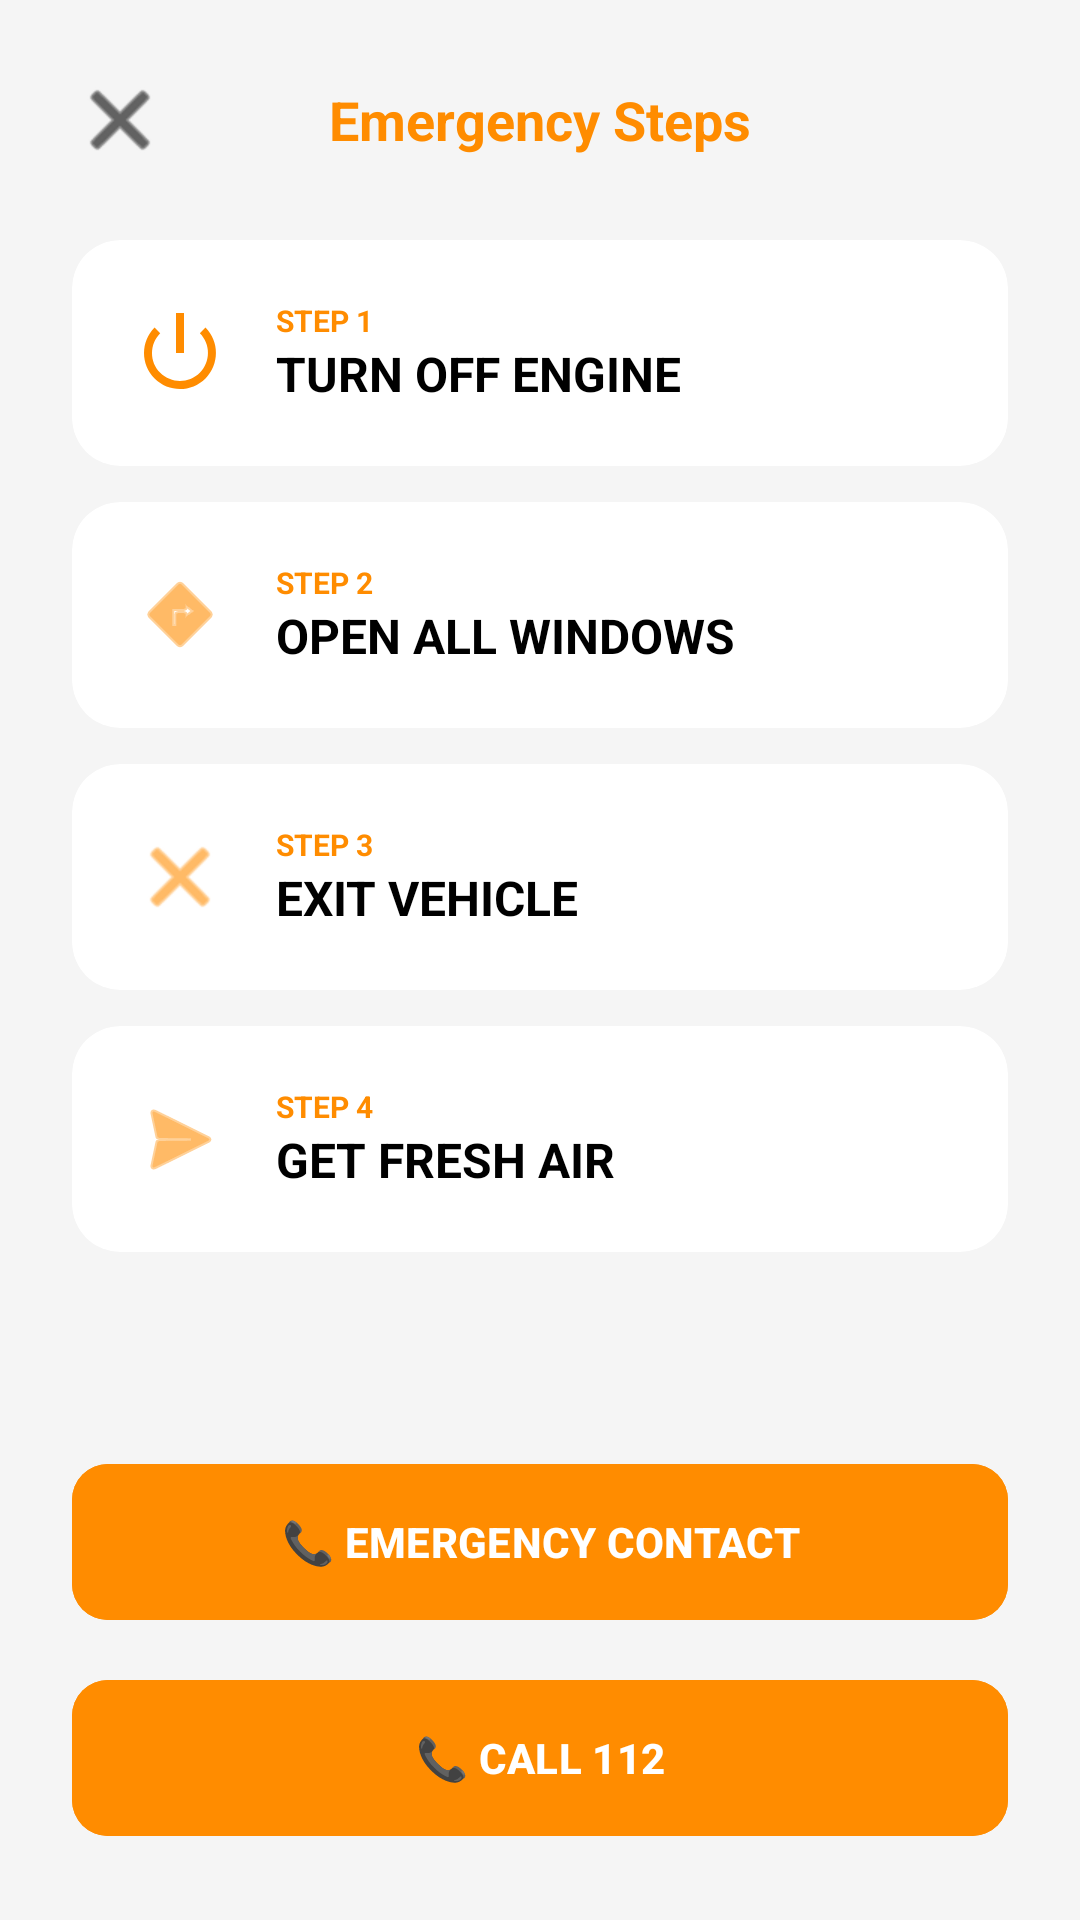

Screen size 1080*1920. Icon name, then its center in pixels as (x=x, y=y):
close clear cancel: (x=120, y=120), (x=180, y=877)
directions: (x=180, y=614)
lock power off: (x=180, y=351)
send: (x=181, y=1139)
